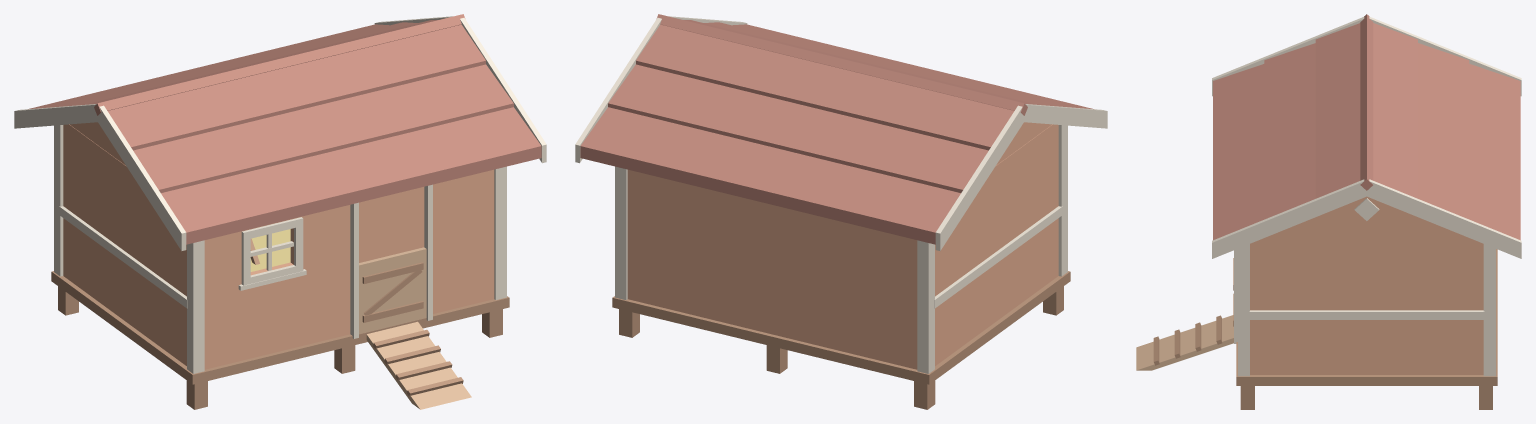
The model's file is coop.glb.
3 views of the same model, side by side, from view 1: azimuth 30°, elevation 25°; view 2: azimuth 150°, elevation 25°; view 3: azimuth 270°, elevation 25° (orthographic). The views are drawn at different scales.
Parts seen in each view (by area): view 1: roof_shell, front_board, side_board_R, floor, ridge_cap, rake_R, ramp, pop_door_panel, corner_FR, window_frame, corner_FL, side_belt_R (+10 smaller); view 2: roof_shell, back_board, side_board_R, floor, ridge_cap, rake_R, corner_BR, corner_BL, side_belt_R, corner_FR, rake_L, gable_R (+3 smaller); view 3: roof_shell, side_board_L, rake_L, floor, gable_L, side_belt_L, ridge_cap, ramp, corner_BL, rake_R, corner_FL, door_guide_L (+1 smaller).
Boxes of the visible parts, x1,y1,x2,y2 form: roof_shell: [28, 20, 541, 244]; front_board: [204, 169, 494, 369]; side_board_R: [63, 124, 186, 365]; floor: [51, 271, 509, 384]; ridge_cap: [94, 14, 465, 115]; rake_R: [14, 104, 186, 250]; ramp: [366, 321, 471, 409]; pop_door_panel: [359, 247, 426, 334]; corner_FR: [187, 240, 204, 373]; window_frame: [241, 217, 303, 285]; corner_FL: [494, 166, 506, 299]; side_belt_R: [59, 206, 187, 308]; roof_shell: [580, 20, 1093, 244]; back_board: [627, 169, 917, 369]; side_board_R: [935, 124, 1058, 365]; floor: [612, 271, 1070, 384]; ridge_cap: [656, 14, 1027, 115]; rake_R: [935, 104, 1107, 250]; corner_BR: [917, 240, 934, 373]; corner_BL: [615, 166, 627, 299]; side_belt_R: [934, 206, 1062, 308]; corner_FR: [1058, 125, 1067, 276]; rake_L: [575, 16, 747, 163]; gable_R: [996, 122, 1051, 165]; roof_shell: [1213, 23, 1520, 240]; side_board_L: [1250, 231, 1483, 374]; rake_L: [1212, 179, 1521, 258]; floor: [1236, 249, 1497, 385]; gable_L: [1282, 196, 1451, 230]; side_belt_L: [1249, 310, 1484, 319]; ridge_cap: [1360, 14, 1373, 190]; ramp: [1136, 315, 1233, 370]; corner_BL: [1483, 244, 1495, 376]; rake_R: [1212, 16, 1521, 96]; corner_FL: [1238, 244, 1249, 376]; door_guide_L: [1234, 249, 1237, 343].
Size of the model in its own units: 3.56 by 2.45 by 3.51.
